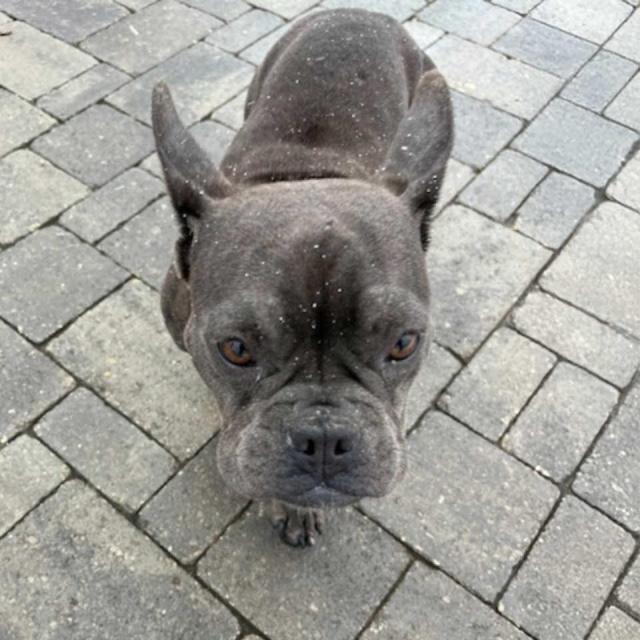french_bulldog_dog: (143, 67, 465, 523)
